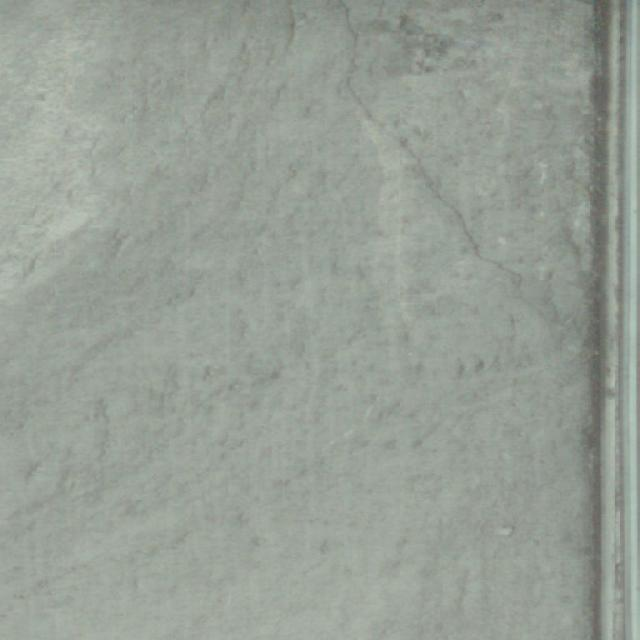Diagonal: (317, 2, 600, 360)
